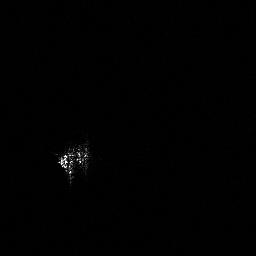ship: (58, 149, 87, 171)
